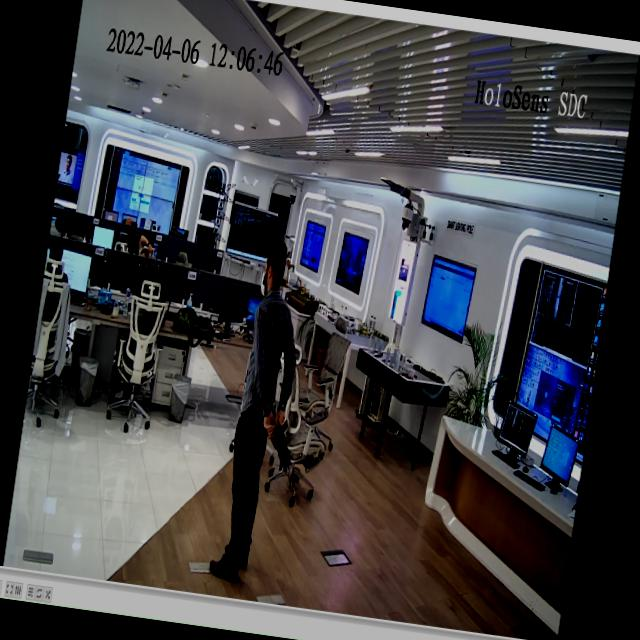long weapon: (256, 395, 306, 487)
